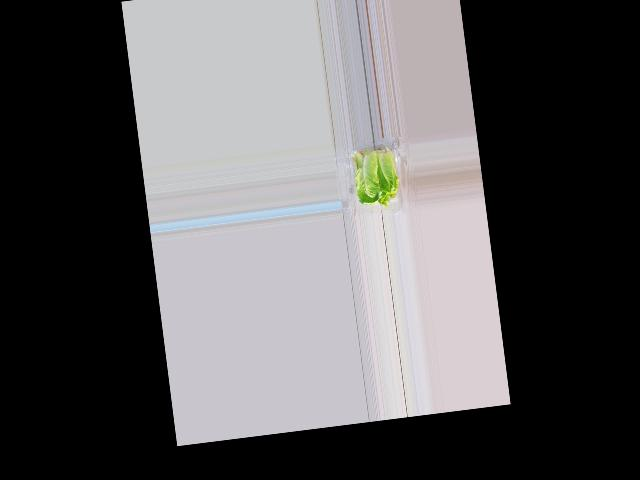lettuce: (351, 148, 401, 210)
